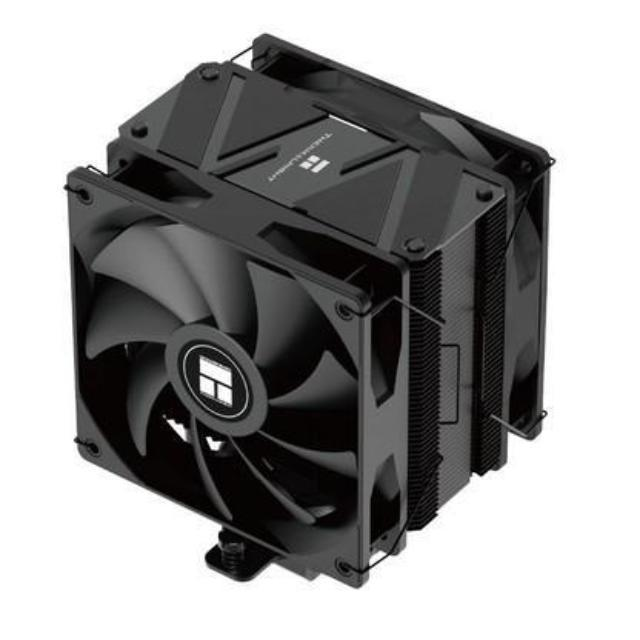CPU_Fan: (63, 31, 551, 586)
